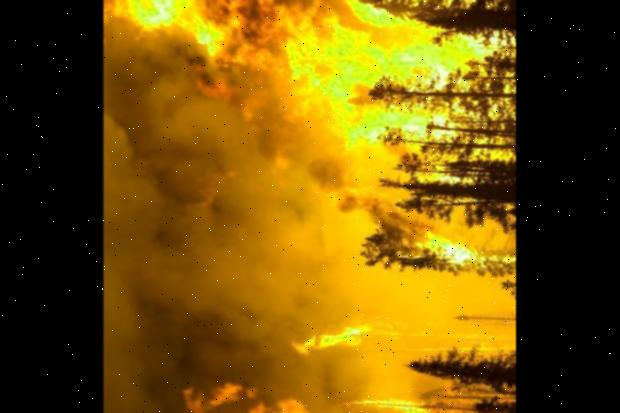fire: (111, 0, 507, 413)
